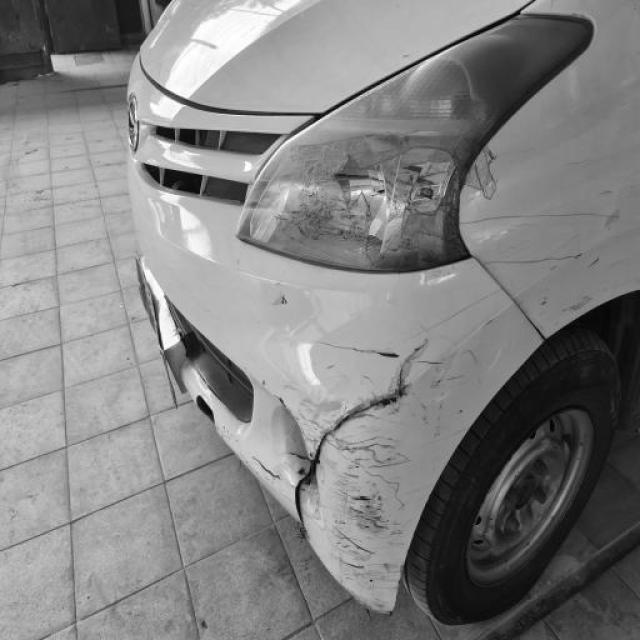scratch: (258, 332, 470, 608), (466, 144, 631, 325)
shatter: (247, 136, 464, 263)
tear: (284, 335, 424, 534)
